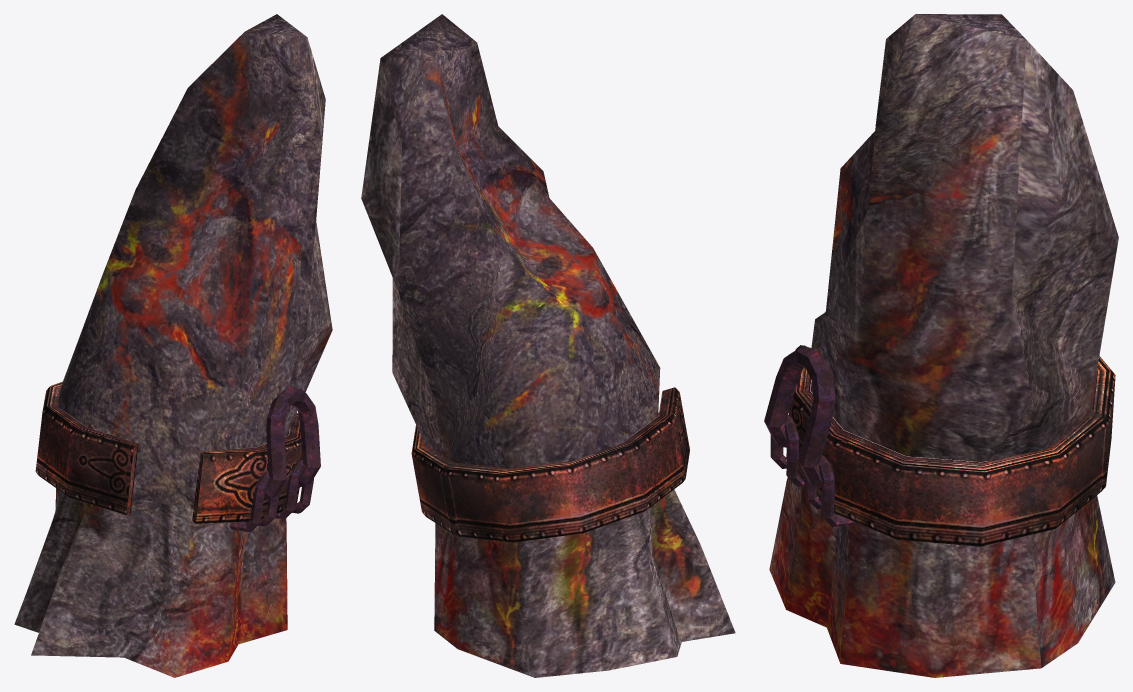
The model's file is horn04.fbx.
3 views of the same model, side by side, from view 1: azimuth 30°, elevation 25°; view 2: azimuth 150°, elevation 25°; view 3: azimuth 270°, elevation 25° (orthographic). The views are drawn at different scales.
Visible parts, largest first — view 1: horn04; view 2: horn04; view 3: horn04.
Part boxes in pixels (left/top/right/bottom): horn04: left=14, top=14, right=332, bottom=677; horn04: left=361, top=14, right=735, bottom=677; horn04: left=764, top=14, right=1118, bottom=677.
Size of the model in its own units: 8.75 by 14.51 by 6.85.
